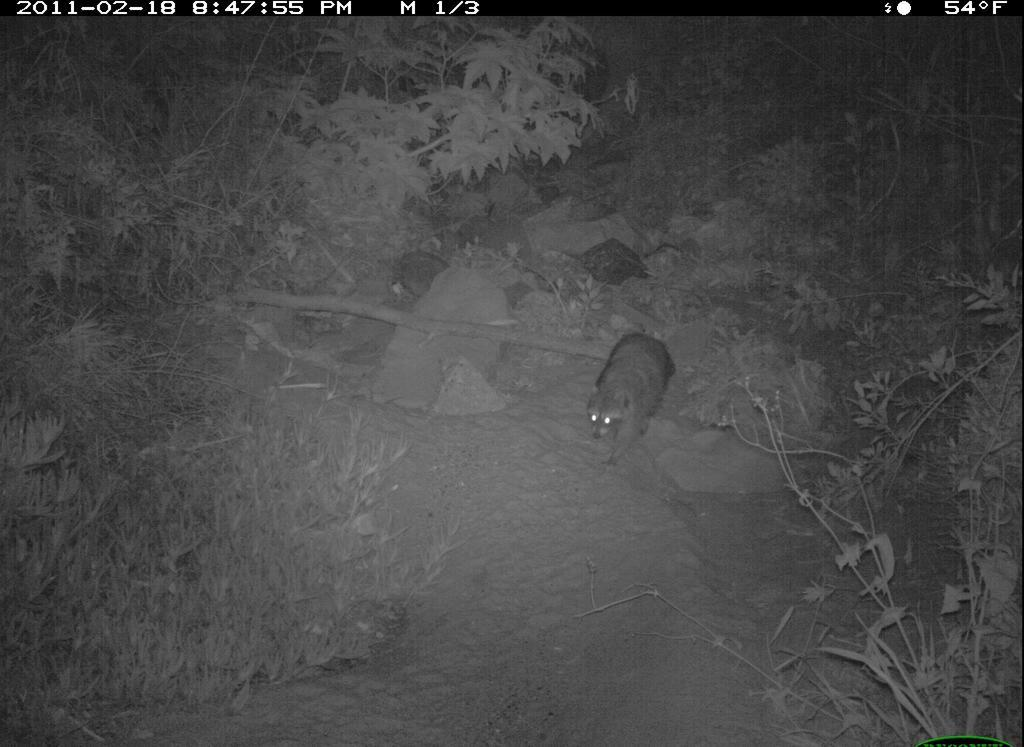raccoon: (582, 329, 684, 469)
